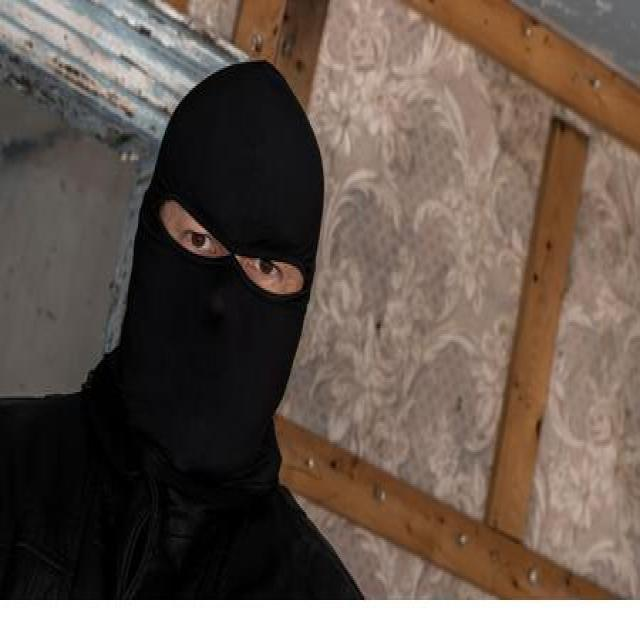6_pasamontana: (115, 58, 325, 483)
